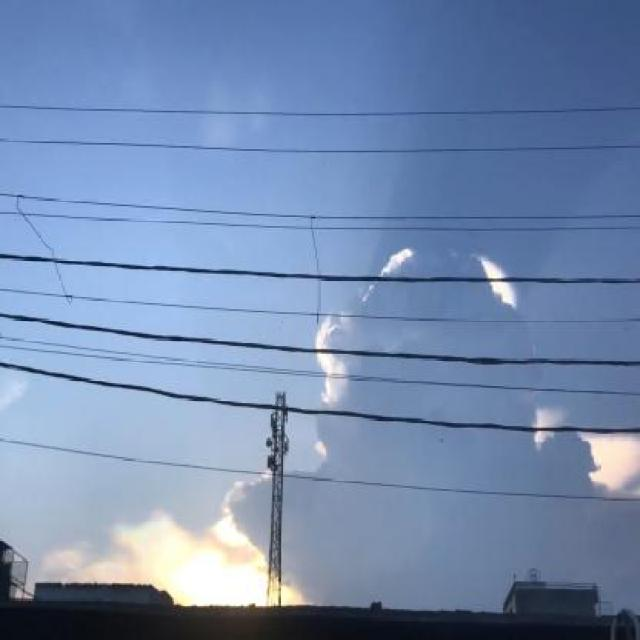bird: (437, 434, 446, 446)
